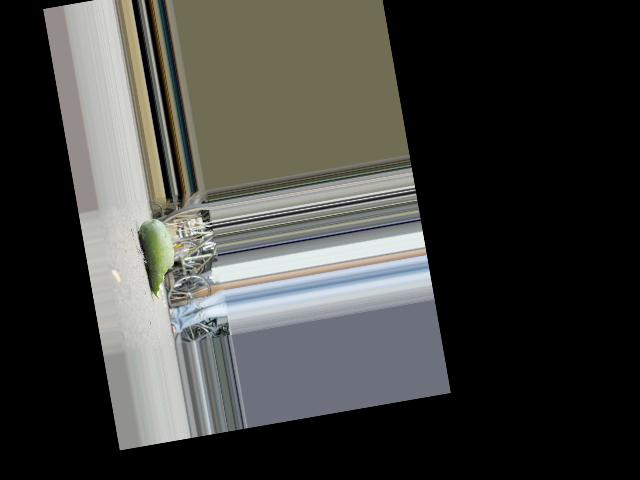cucumber: (137, 216, 181, 301)
